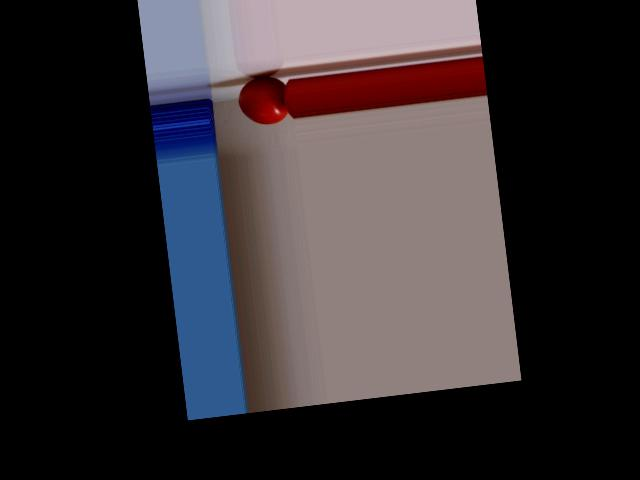tomato: (236, 74, 288, 127)
